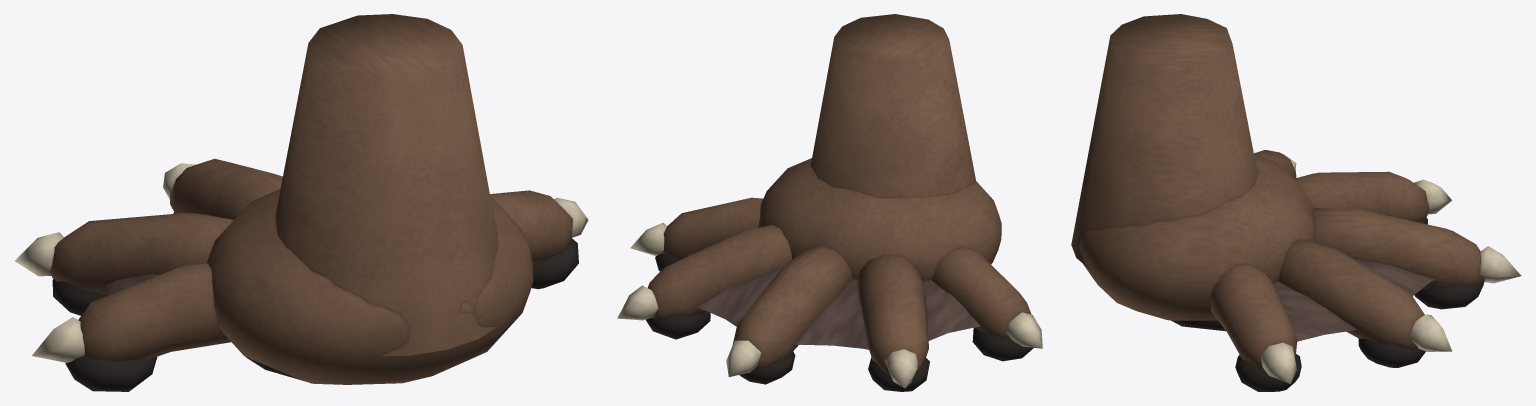
The model's file is cpart_foot_otter.glb.
3 views of the same model, side by side, from view 1: azimuth 30°, elevation 25°; view 2: azimuth 150°, elevation 25°; view 3: azimuth 270°, elevation 25° (orthographic). The views are drawn at different scales.
Parts seen in each view (by area): view 1: FootOtter, FootOtterPads, FootOtterClaws; view 2: FootOtter, FootOtterWeb, FootOtterClaws, FootOtterPads; view 3: FootOtter, FootOtterPads, FootOtterClaws, FootOtterWeb.
Boxes of the visible parts, box(x1,y1,x2,y2) form: FootOtter: box(51, 14, 572, 384); FootOtterPads: box(52, 212, 578, 391); FootOtterClaws: box(15, 163, 588, 362); FootOtter: box(647, 14, 1031, 375); FootOtterWeb: box(688, 251, 981, 349); FootOtterClaws: box(617, 222, 1042, 388); FootOtterPads: box(646, 253, 1033, 391); FootOtter: box(1071, 14, 1484, 367); FootOtterPads: box(1171, 218, 1483, 391); FootOtterClaws: box(1261, 153, 1521, 383); FootOtterWeb: box(1274, 259, 1435, 341).
Size of the model in its own units: 0.1586 by 0.0903 by 0.1394.
4 materials, 4 textured.
